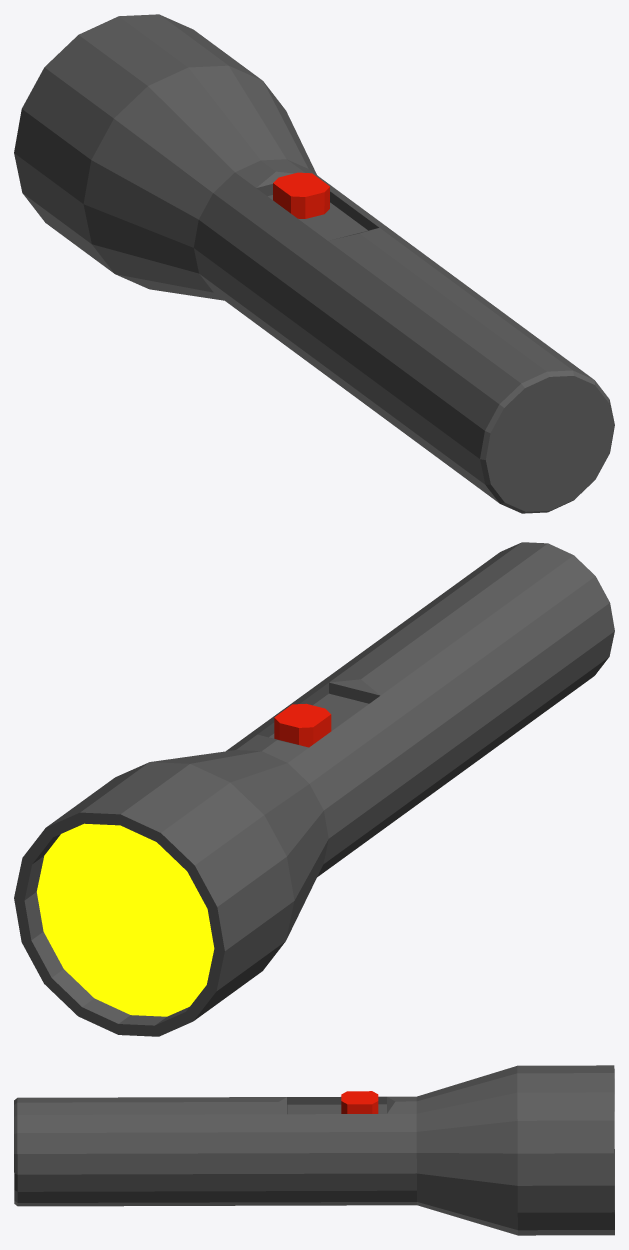
Rendered from flashlight.fbx.
3 views of the same model, one above another, from view 1: azimuth 30°, elevation 25°; view 2: azimuth 150°, elevation 25°; view 3: azimuth 270°, elevation 25° (orthographic). The views are drawn at different scales.
Parts seen in each view (by area): view 1: Flashlight_1; view 2: Flashlight_1; view 3: Flashlight_1.
Part boxes in pixels (<box>): Flashlight_1: <box>14,14,614,513</box>; Flashlight_1: <box>14,542,614,1036</box>; Flashlight_1: <box>14,1065,614,1235</box>.
Bounding box in the file's own units: 117 × 117 × 413.
